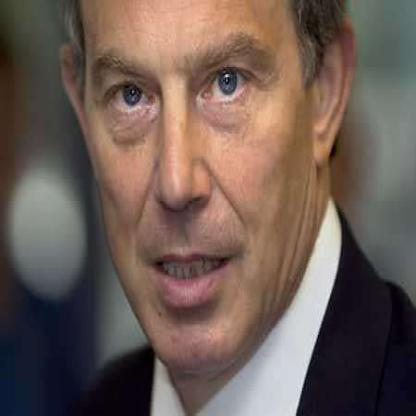face: (1, 1, 3, 3)
